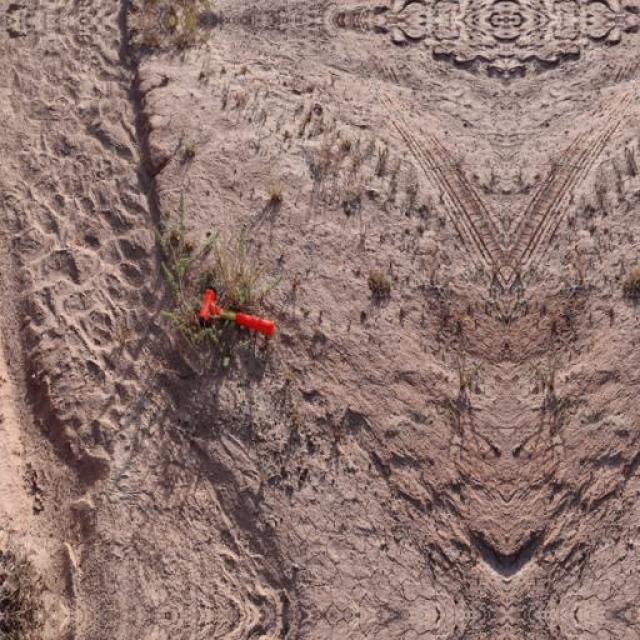mallet: (195, 285, 275, 339)
